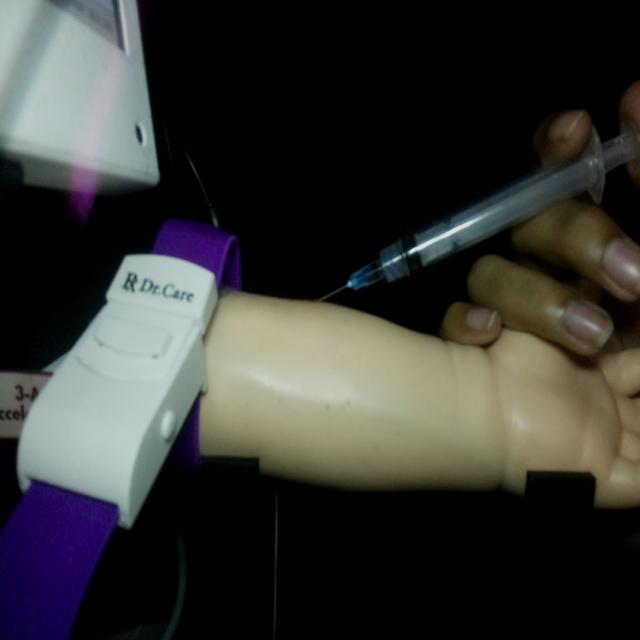17 degrees: (314, 116, 638, 304)
